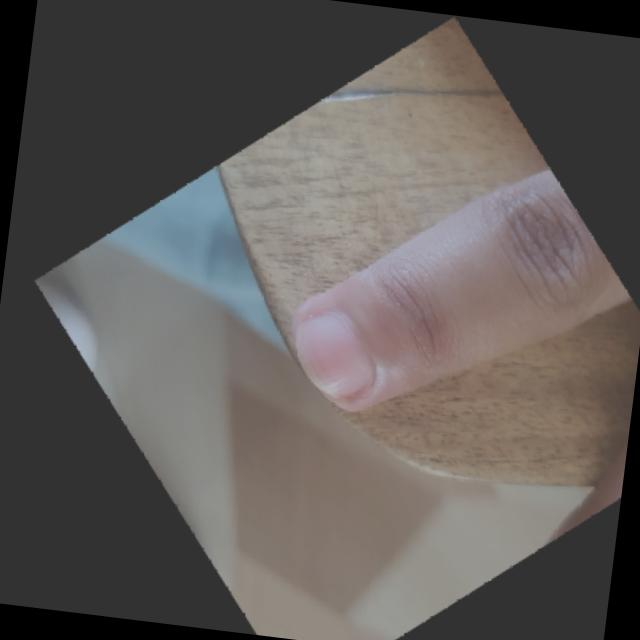Nail: (297, 310, 371, 399)
